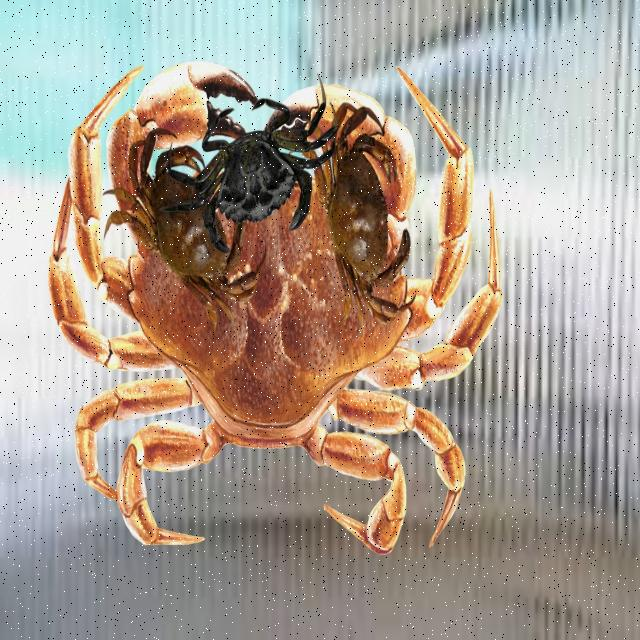European_Green_Crab: (147, 69, 353, 278)
